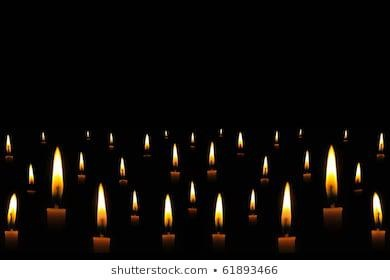fire: (324, 145, 338, 199), (51, 145, 64, 199), (279, 180, 292, 227), (95, 182, 107, 228), (212, 190, 224, 230), (6, 191, 19, 226), (370, 190, 382, 227), (161, 191, 172, 229), (131, 188, 139, 211), (354, 161, 362, 183)
